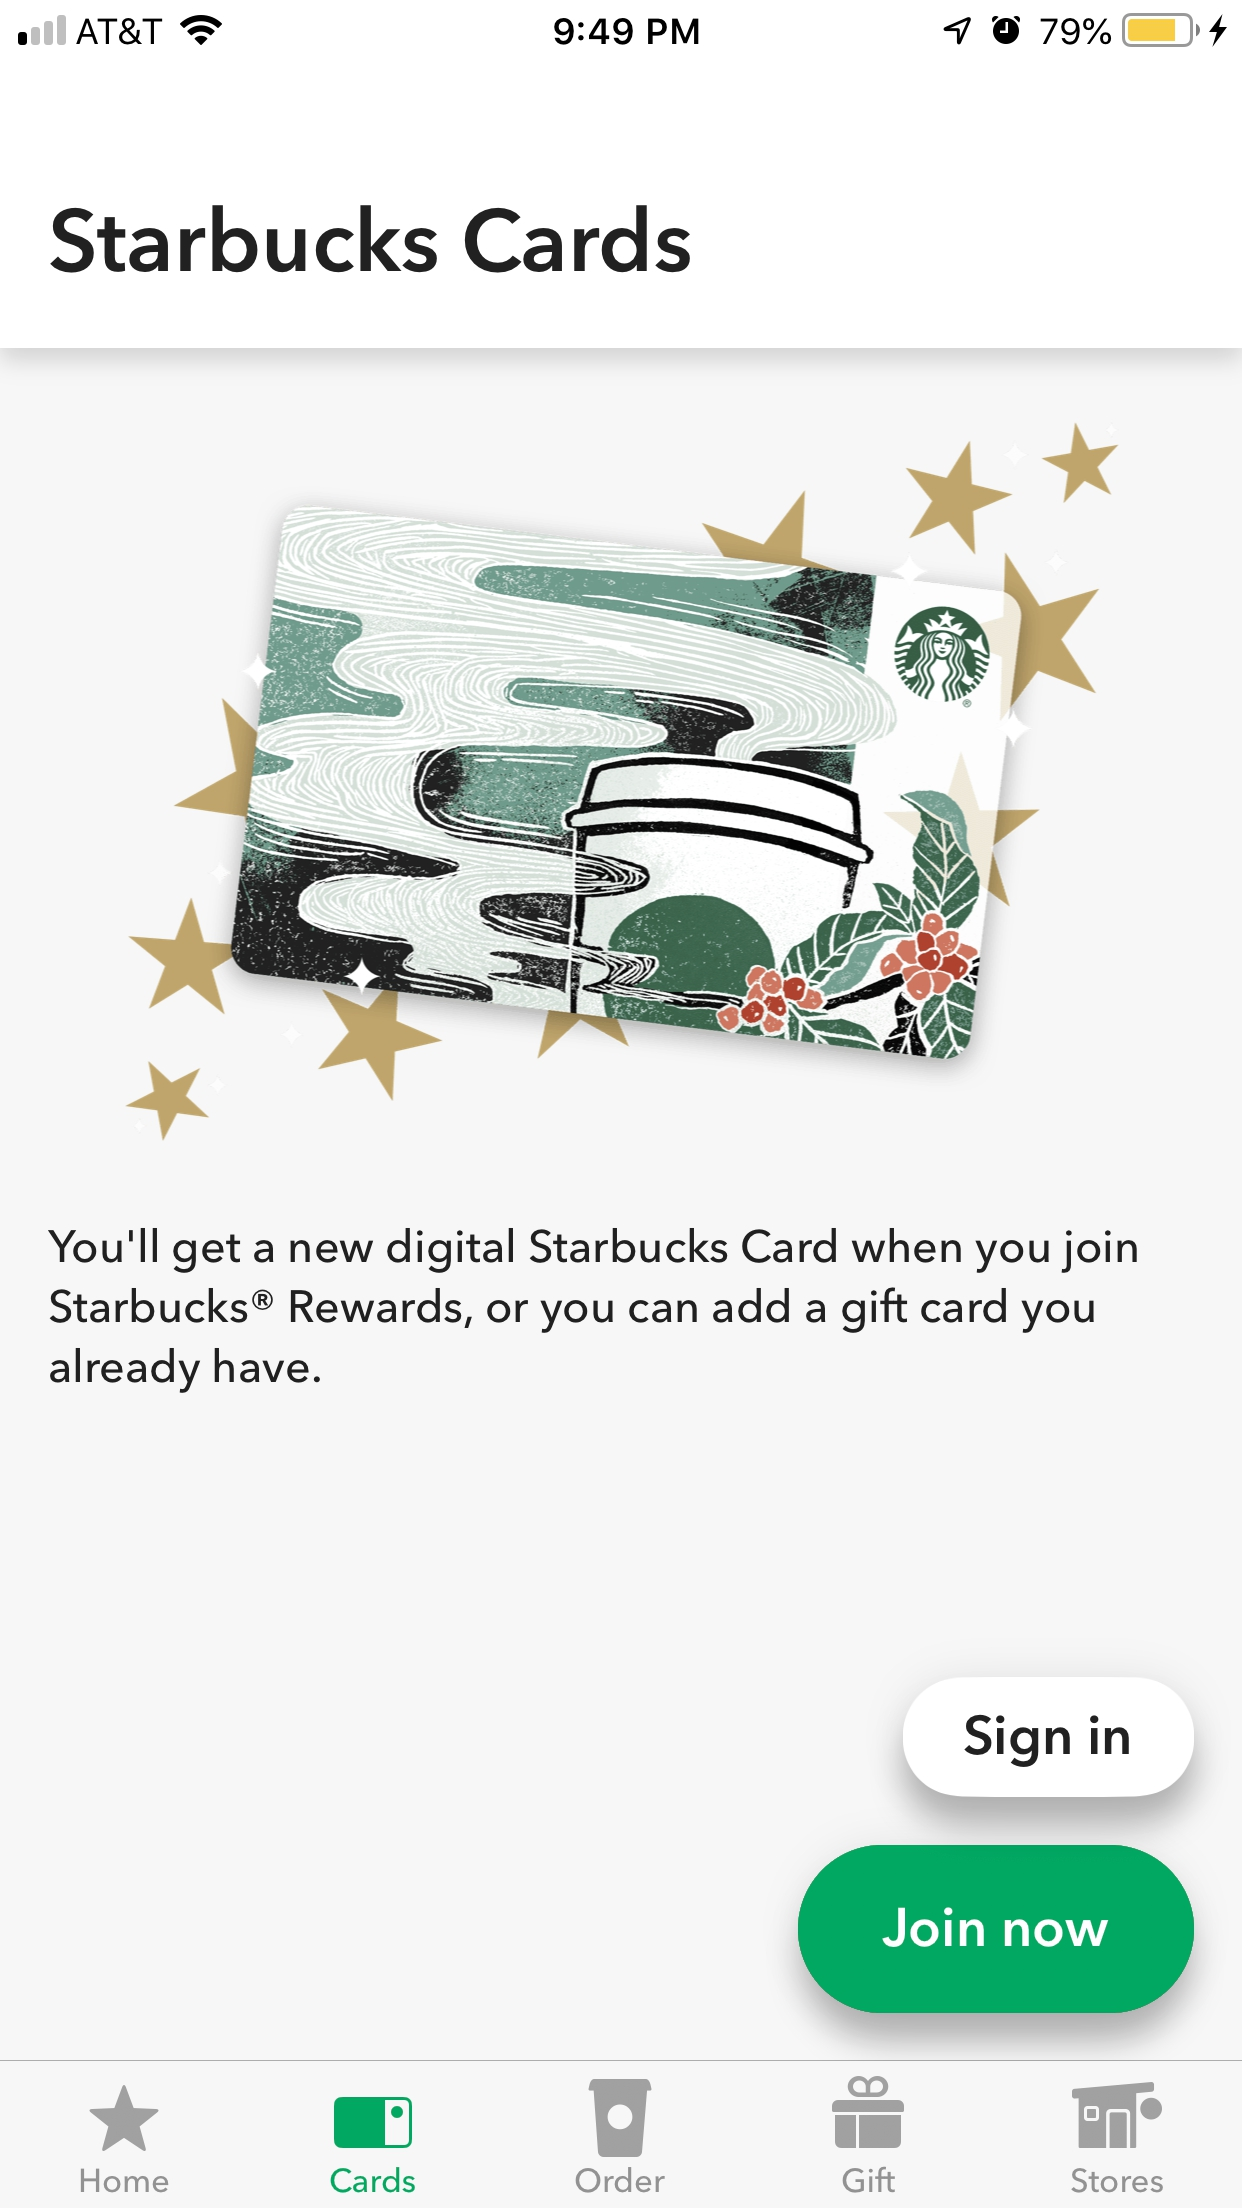Icon: (833, 2075, 905, 2149), (89, 2084, 161, 2152), (334, 2096, 412, 2149)
Image: (124, 423, 1119, 1142), (1071, 2081, 1163, 2149), (588, 2078, 654, 2158)
Text: (47, 1227, 1137, 1394), (50, 205, 692, 274), (1071, 2167, 1165, 2194), (331, 2166, 417, 2194), (575, 2166, 666, 2193), (80, 2167, 170, 2193), (842, 2166, 896, 2194)
TextButton: (798, 1846, 1197, 2015), (902, 1677, 1195, 1799)
UpperTaskBar: (2, 2, 1242, 49)
